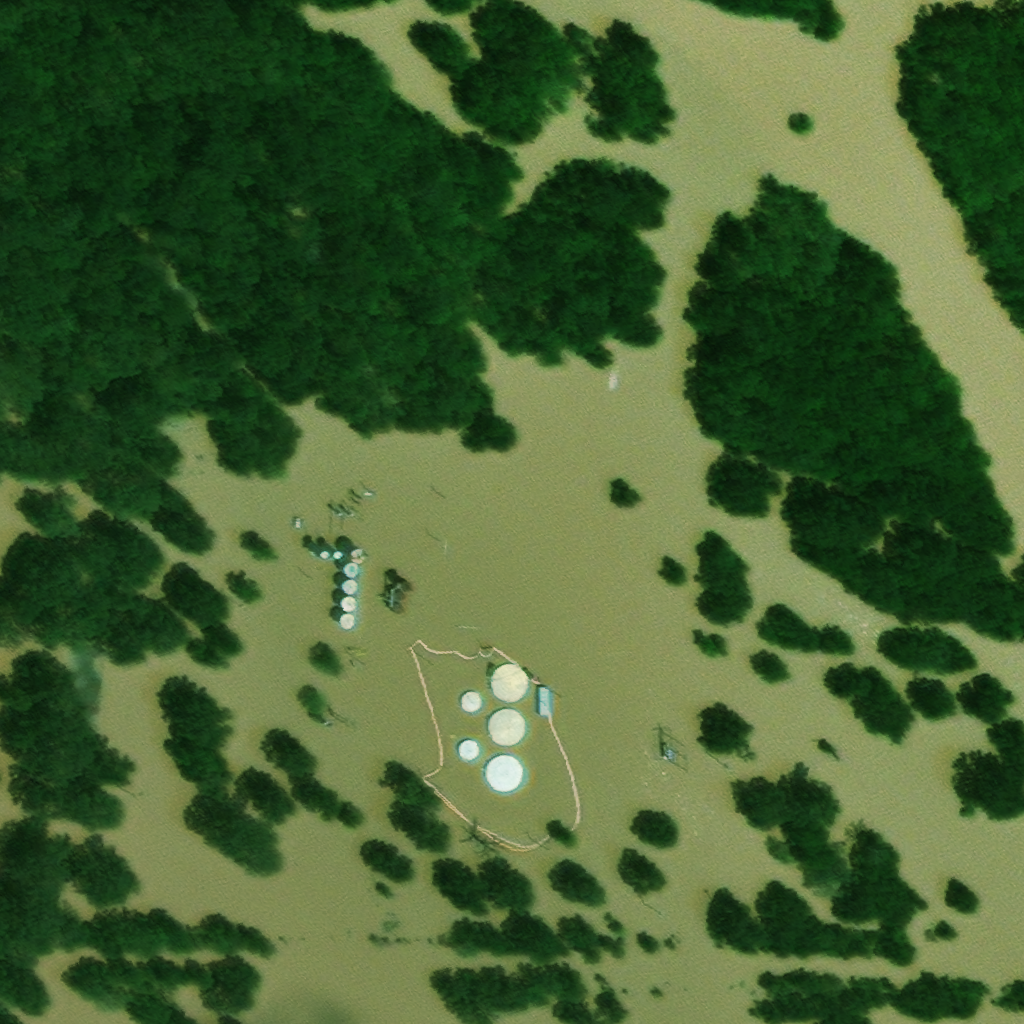destroyed: (369, 498, 378, 502)
major_damage: (492, 760, 530, 799), (497, 670, 534, 708), (495, 715, 532, 753), (465, 745, 486, 767), (467, 697, 488, 719), (342, 542, 360, 559), (543, 692, 553, 722), (340, 613, 354, 631), (340, 595, 355, 611), (340, 578, 355, 594), (343, 560, 356, 577), (396, 576, 406, 592), (395, 591, 406, 605), (395, 605, 405, 619)
